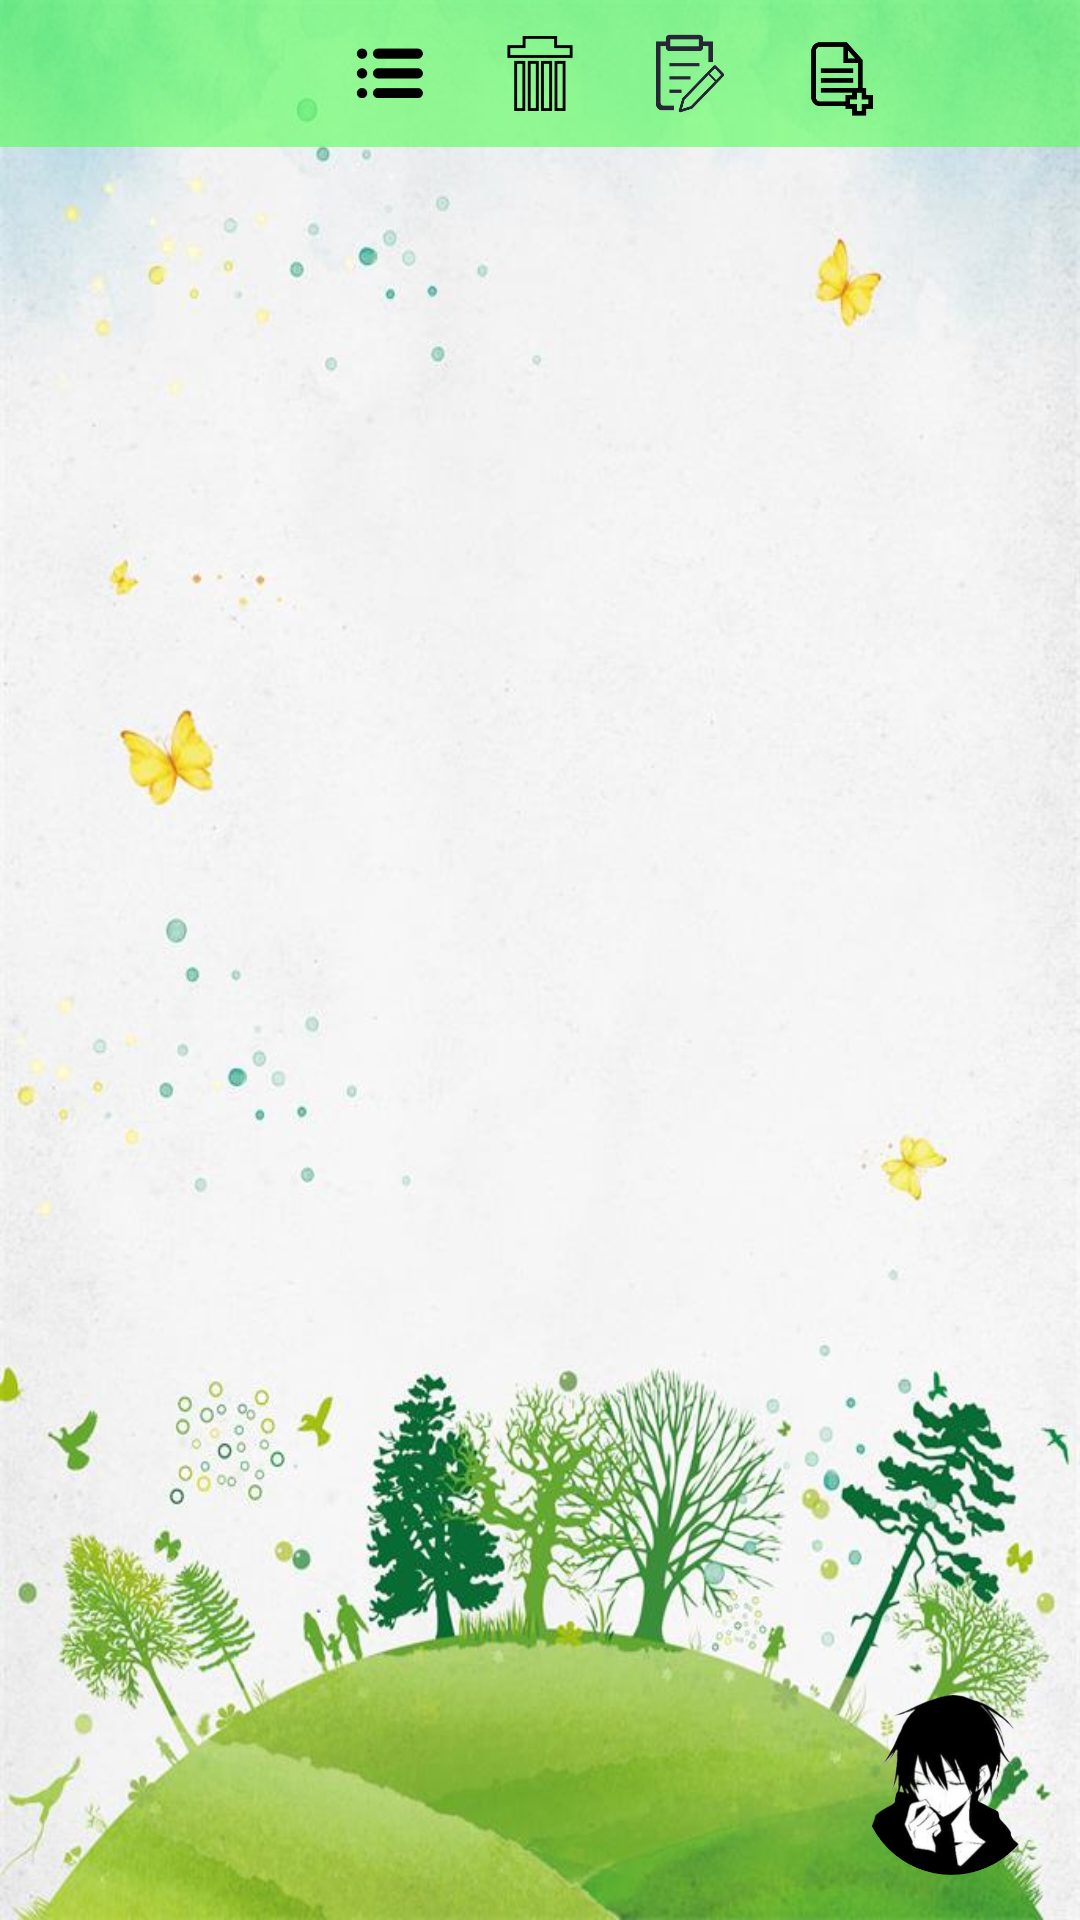

Locate icon controls on the screen. Image size 1080px×1920px, boxes as (x1=x1, y1=y1, x2=x2, y2=y2).
删除: (x1=507, y1=36, x2=573, y2=111)
